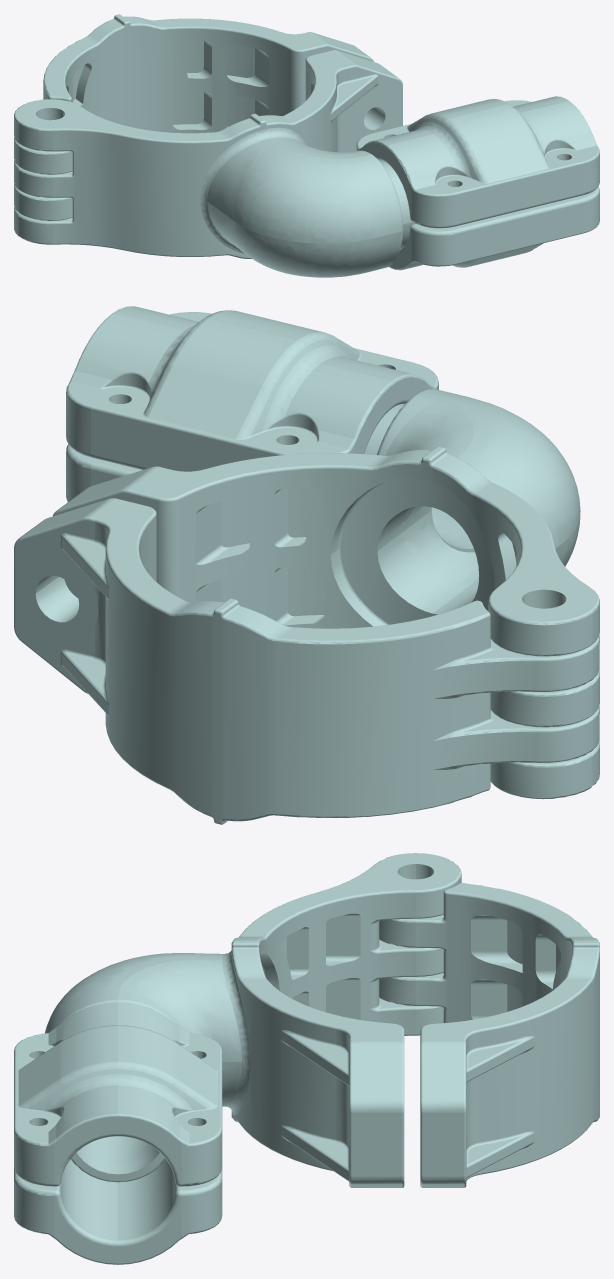
3 renders of one model, top to bottom at view 1: azimuth 30°, elevation 25°; view 2: azimuth 150°, elevation 25°; view 3: azimuth 270°, elevation 25°, orthographic. The views are drawn at different scales.
Bounding box in the file's own units: 139 × 43.8 × 129.
